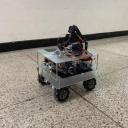cart: (36, 47, 100, 102)
